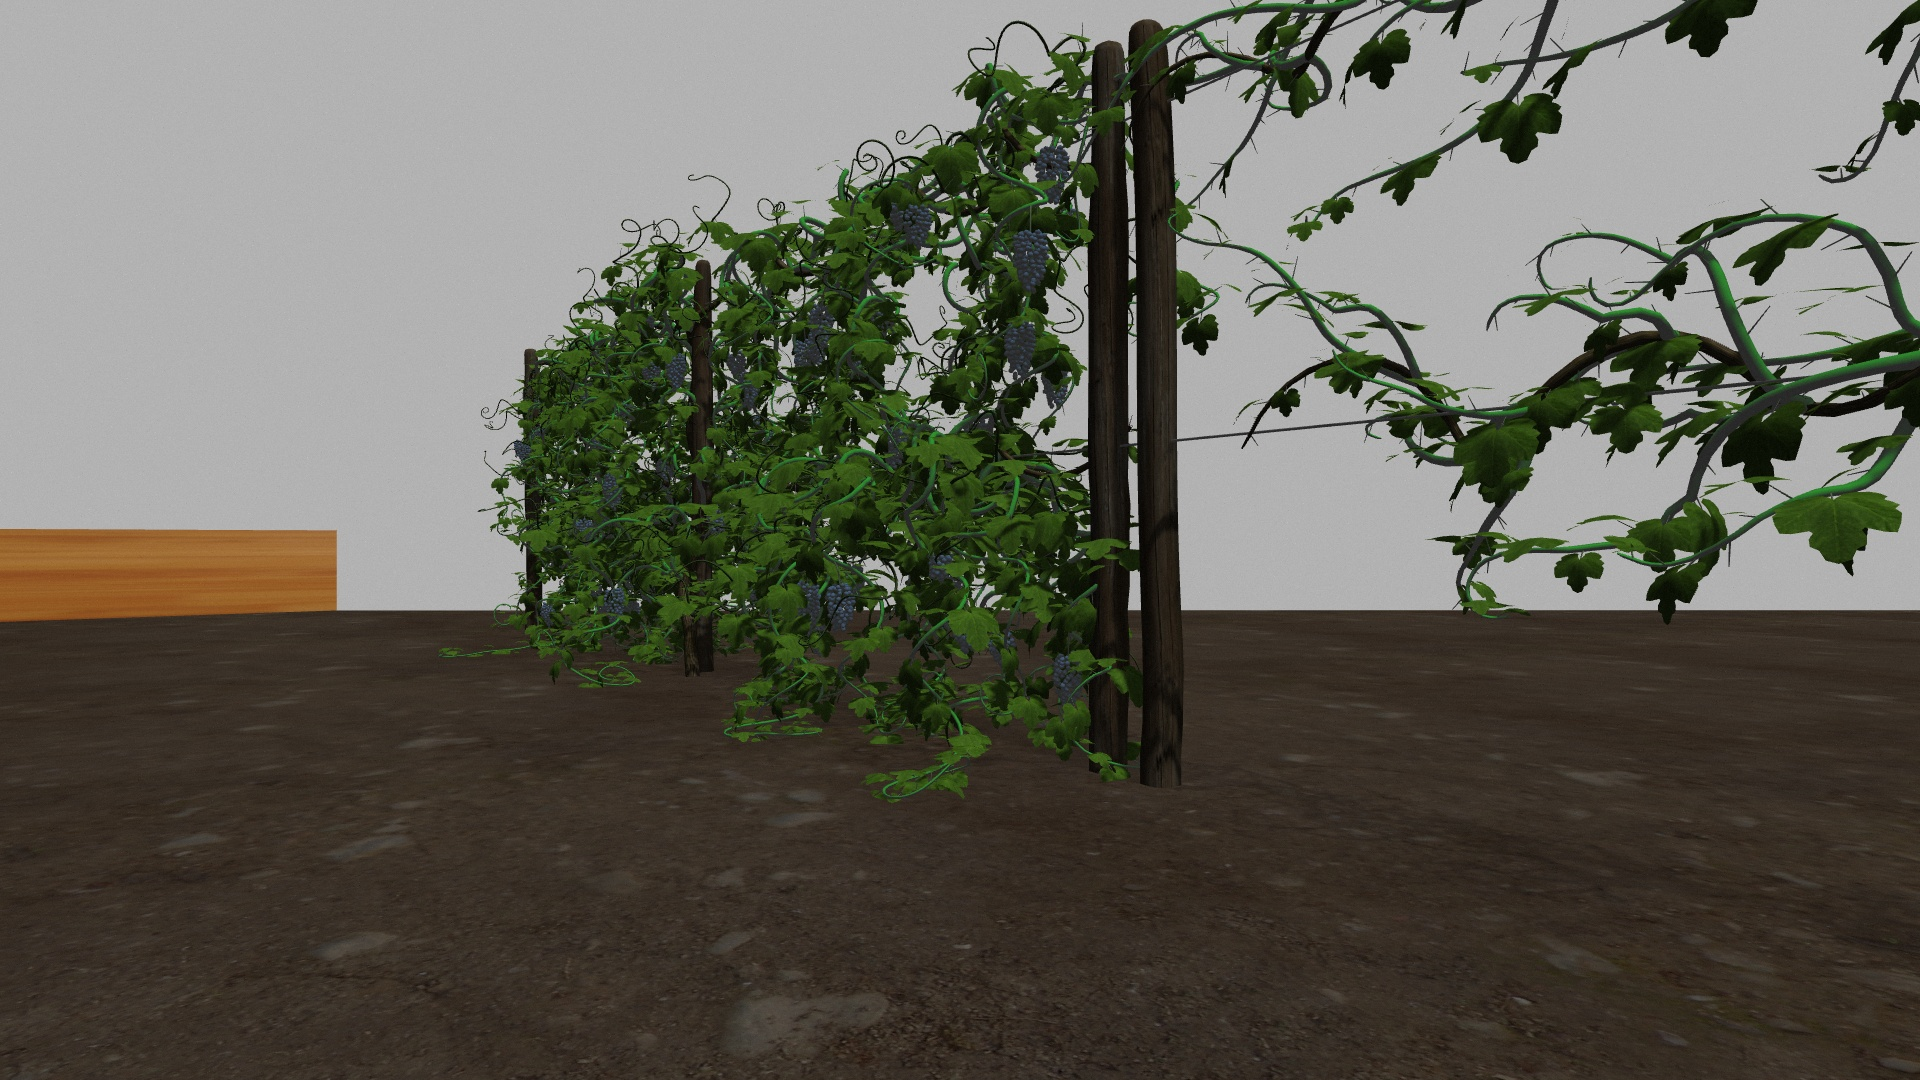grape: (1011, 229, 1048, 291), (1035, 142, 1069, 204), (1002, 322, 1040, 377), (1052, 655, 1085, 703), (824, 584, 856, 632), (905, 204, 934, 249), (796, 582, 822, 622), (884, 429, 907, 468), (665, 352, 688, 390), (808, 307, 833, 342), (603, 587, 625, 621), (601, 473, 622, 508), (928, 554, 952, 582), (725, 351, 746, 377), (742, 378, 760, 410), (807, 338, 825, 365), (793, 340, 808, 367), (512, 440, 531, 460), (541, 603, 555, 629), (578, 520, 592, 539)
